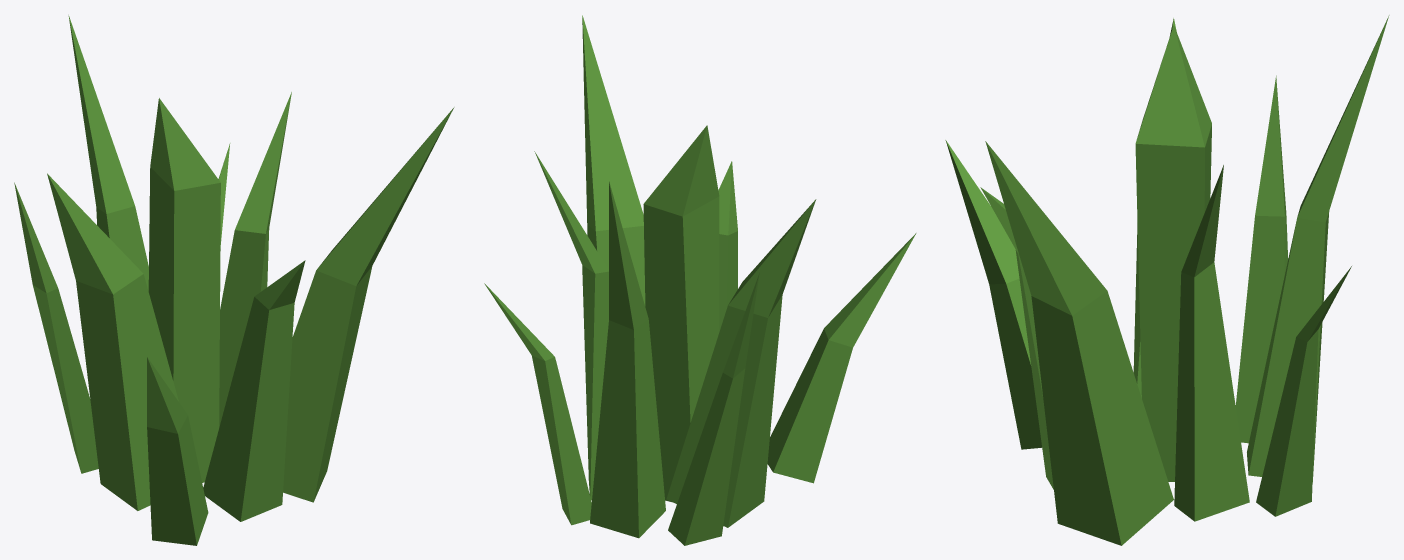
File: Grass_01.fbx
The picture shows the model from 3 angles, left to right: view 1: azimuth 30°, elevation 25°; view 2: azimuth 150°, elevation 25°; view 3: azimuth 270°, elevation 25°; orthographic projection. The views are drawn at different scales.
Visible parts, largest first — view 1: Grass_01; view 2: Grass_01; view 3: Grass_01.
Part boxes in pixels (x1,y1,x2,y2): Grass_01: (14,15,454,545); Grass_01: (484,15,916,545); Grass_01: (945,15,1389,545).
Bounding box in the file's own units: 0.5221 × 0.6202 × 0.5478.
